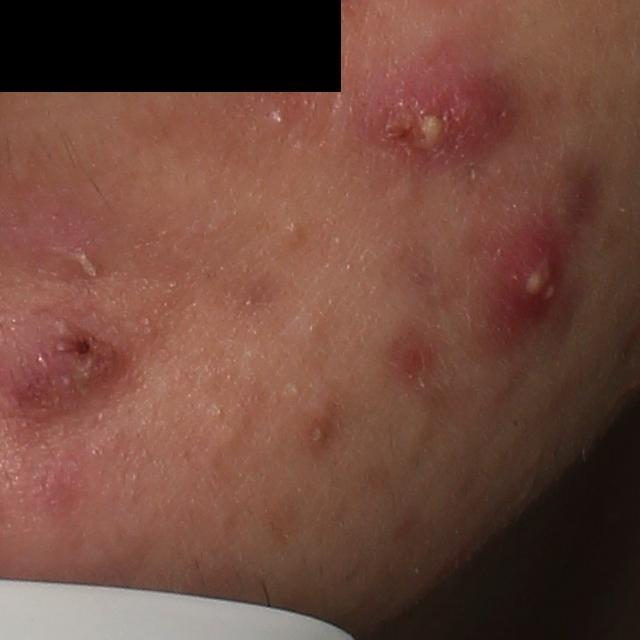comedo: (281, 223, 306, 249), (269, 109, 287, 131), (283, 382, 303, 401)
nodule: (348, 57, 527, 166), (478, 208, 579, 356)
